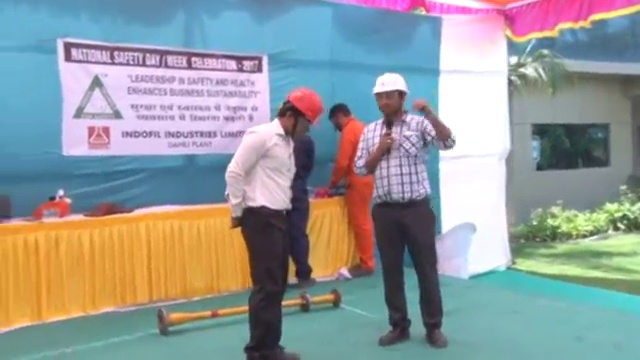helmet: (289, 88, 327, 124), (371, 72, 412, 97)
helmet_off: (326, 101, 356, 135)
helmet_on: (275, 88, 329, 146), (369, 70, 414, 125)
person: (355, 73, 458, 349), (226, 89, 328, 360), (326, 103, 378, 280)
